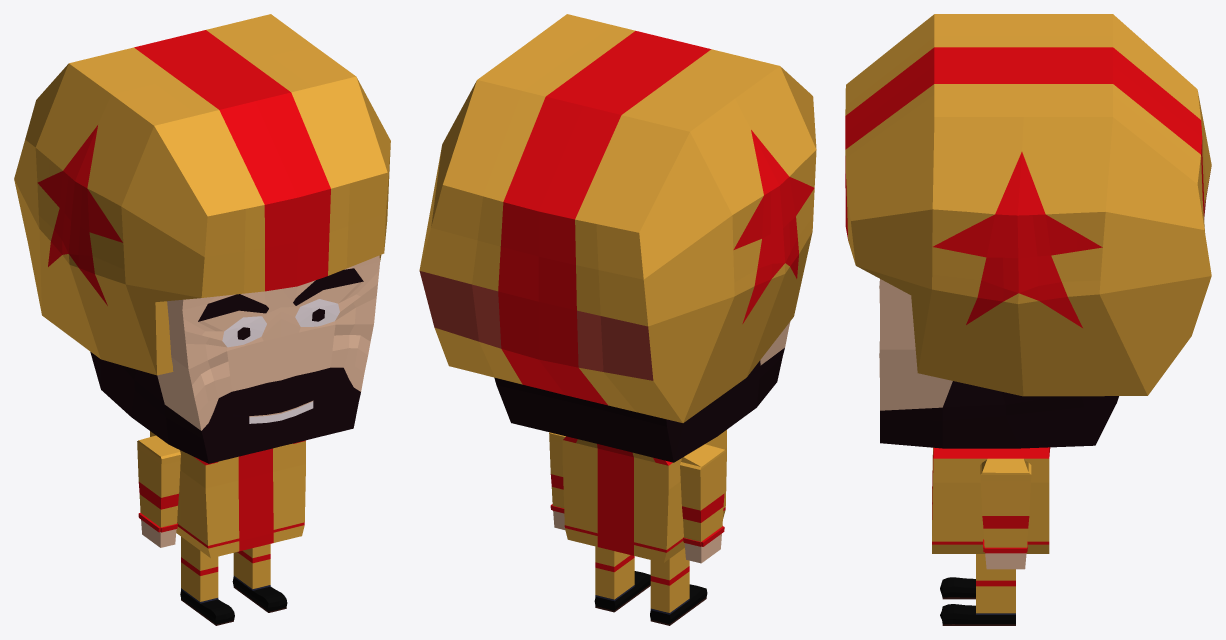
The model's file is Canonero.fbx.
The picture shows the model from 3 angles, left to right: view 1: azimuth 30°, elevation 25°; view 2: azimuth 150°, elevation 25°; view 3: azimuth 270°, elevation 25°; orthographic projection. The views are drawn at different scales.
Visible parts, largest first — view 1: Character; view 2: Character; view 3: Character.
Boxes of the visible parts, x1,y1,x2,y2 form: Character: (14, 14, 390, 625); Character: (419, 14, 816, 625); Character: (845, 14, 1211, 625).
Bounding box in the file's own units: 279 × 473 × 290.
